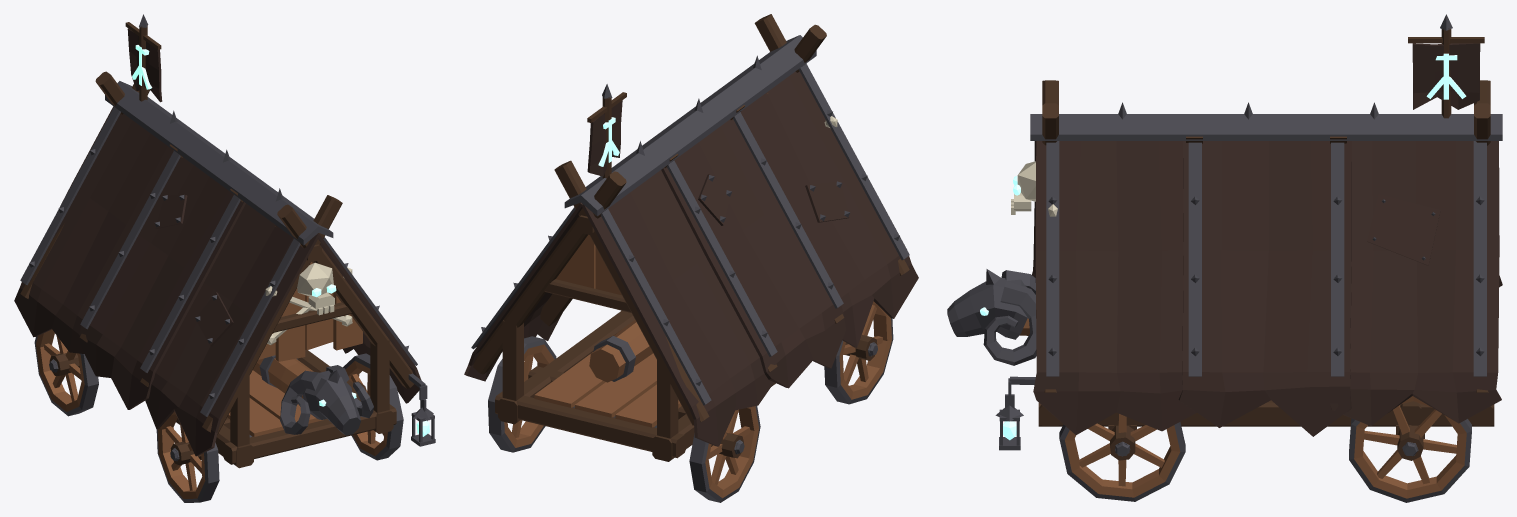
Rendered from Ramme.fbx.
The picture shows the model from 3 angles, left to right: view 1: azimuth 30°, elevation 25°; view 2: azimuth 150°, elevation 25°; view 3: azimuth 270°, elevation 25°; orthographic projection. The views are drawn at different scales.
Parts seen in each view (by area): view 1: Ramme_Body, Rammbalken, Rad_HR, Rad_VR, Rad_VL; view 2: Ramme_Body, Rad_HR, Rad_VR, Rad_HL, Rammbalken; view 3: Ramme_Body, Rad_HL, Rammbalken, Rad_VL.
Part boxes in pixels (left/top/right/bottom): Ramme_Body: left=14, top=14, right=435, bottom=468; Rammbalken: left=253, top=355, right=373, bottom=435; Rad_HR: left=34, top=329, right=98, bottom=416; Rad_VR: left=156, top=411, right=219, bottom=502; Rad_VL: left=343, top=353, right=403, bottom=460; Ramme_Body: left=464, top=14, right=918, bottom=461; Rad_HR: left=689, top=406, right=760, bottom=502; Rad_VR: left=824, top=301, right=893, bottom=404; Rad_HL: left=488, top=336, right=556, bottom=452; Rammbalken: left=589, top=320, right=652, bottom=382; Ramme_Body: left=995, top=14, right=1502, bottom=455; Rad_HL: left=1349, top=396, right=1471, bottom=502; Rammbalken: left=947, top=269, right=1036, bottom=365; Rad_VL: left=1059, top=414, right=1185, bottom=501.
Bounding box in the file's own units: 2.54 × 3.98 × 4.63.
